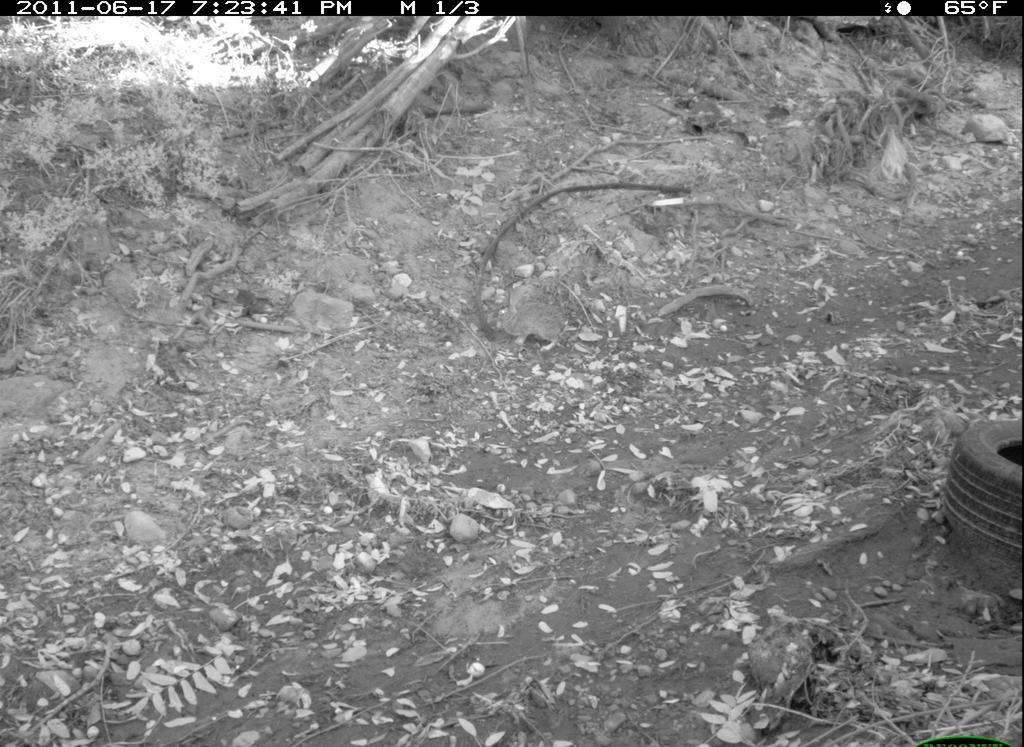rabbit: (492, 281, 571, 359)
